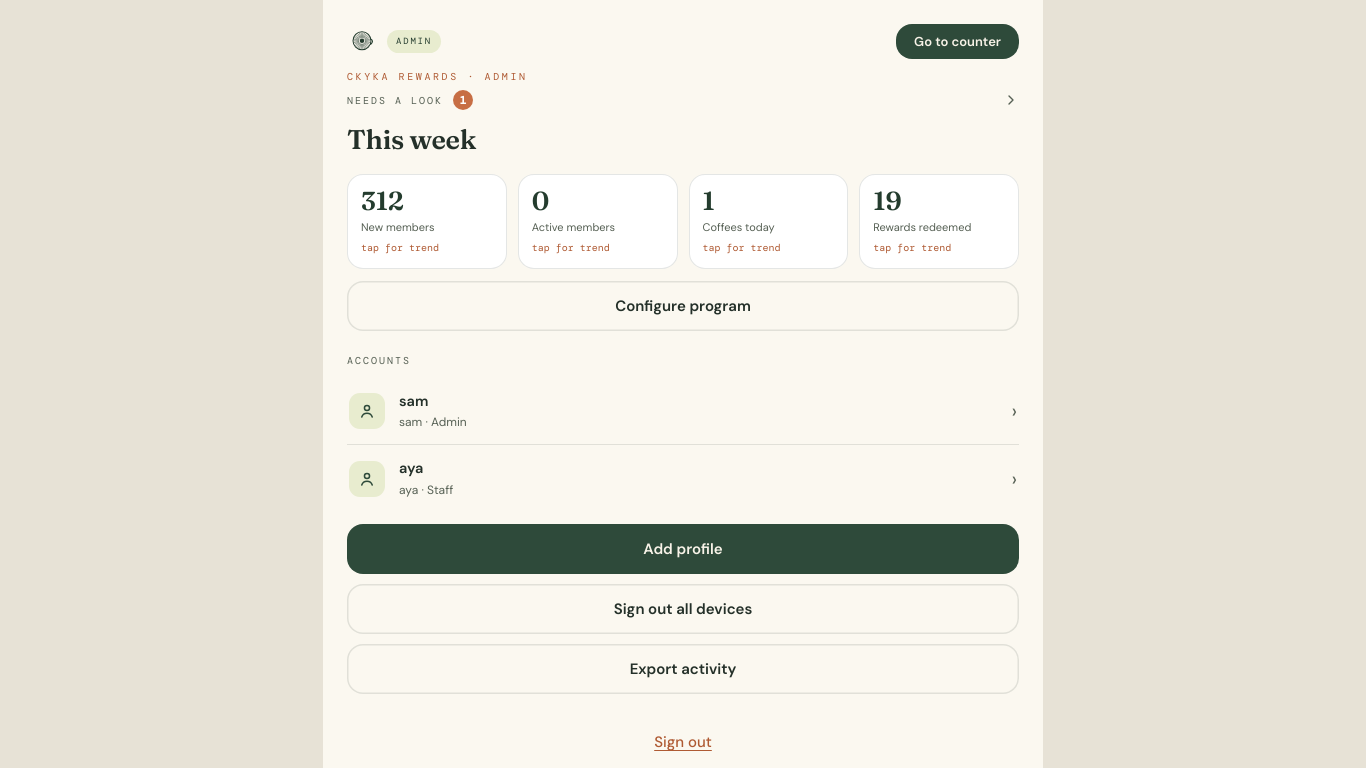
it: Admin screen › Configure → a program "Change" opens the value+PIN edit sheet
Click the button "Configure program" at point(683, 306), box [347,281,1019,331]
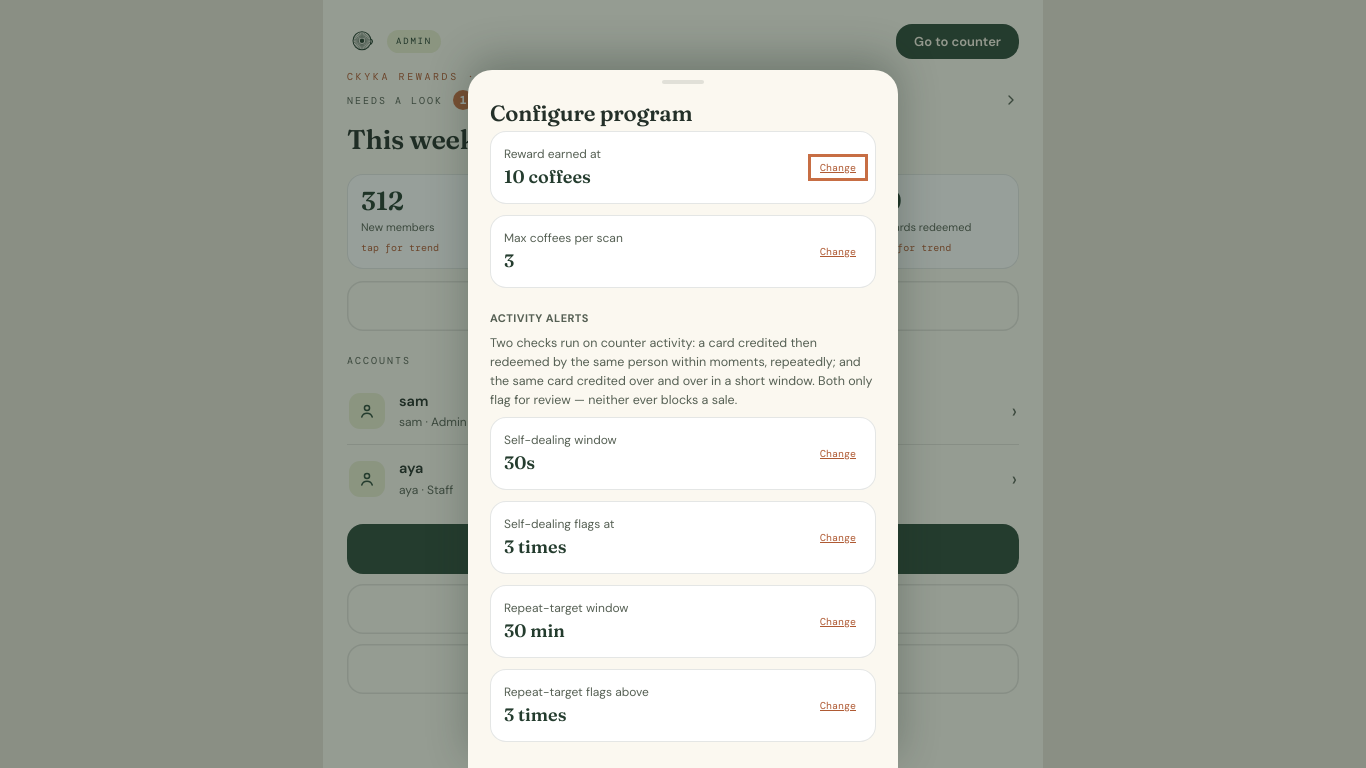
expect the button with class "edit" in the row of "10 coffees" is shown: met
Click the button with class "edit" in the row of "10 coffees" at point(838, 167), box [814,160,862,174]
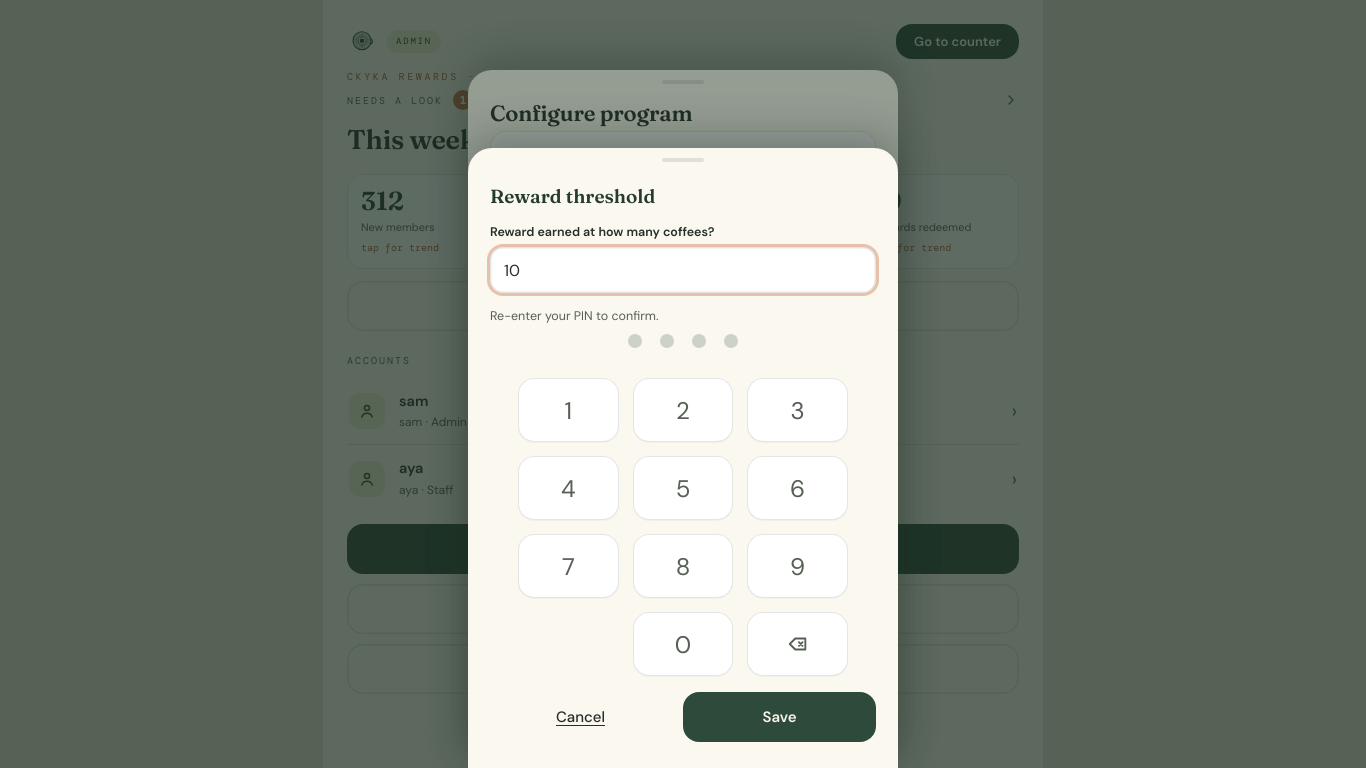
expect the dialog with class "sheet" that starts with "Configure program" is shown: met, box [468,70,898,767]
expect the message named "0 of 4 digits entered" is shown: met, box [628,334,738,348]
